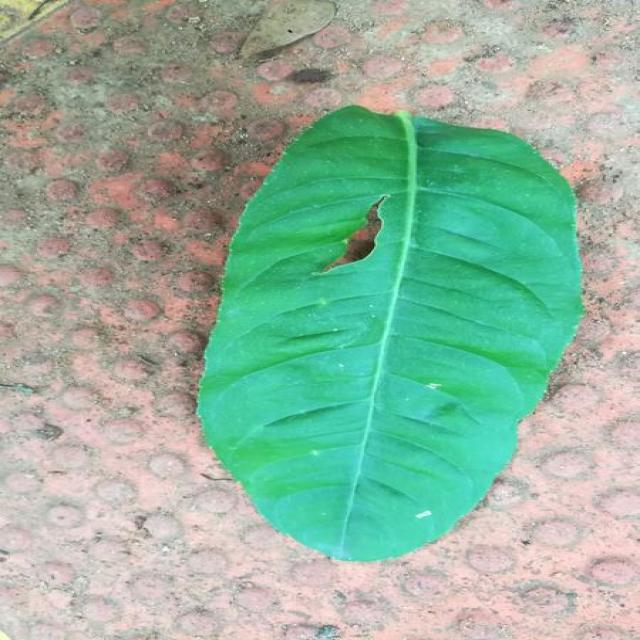badipala: (198, 105, 583, 561), (327, 201, 383, 269)
defectedbadipala: (327, 202, 382, 268), (0, 89, 17, 107)
